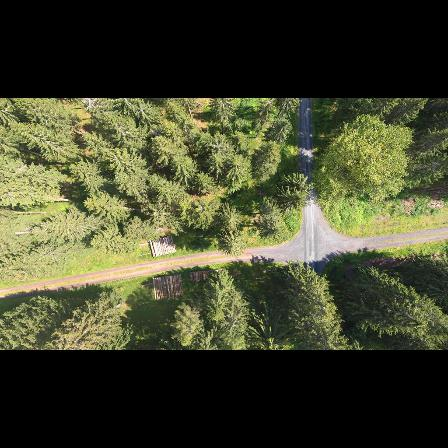Sick: (203, 134, 232, 158)
